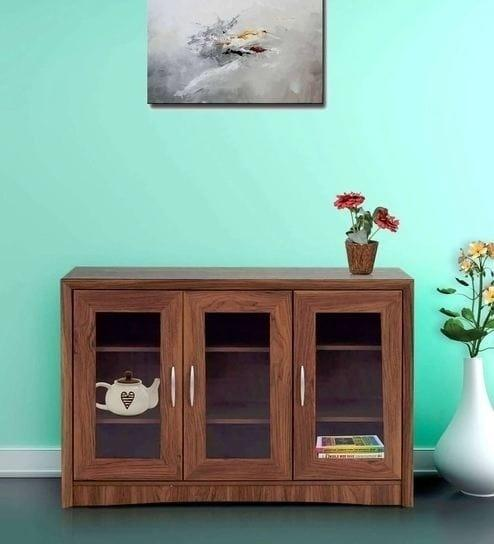cabinet_door: (76, 292, 182, 478), (296, 295, 402, 476), (185, 295, 289, 477), (149, 0, 323, 103)
handle: (168, 367, 178, 411), (187, 366, 197, 409), (298, 365, 307, 408)
